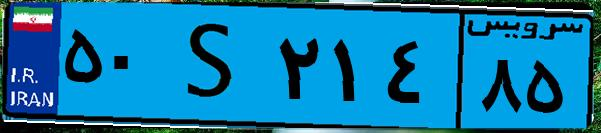0: (110, 28, 158, 98)
1: (330, 28, 385, 110)
2: (270, 28, 330, 110)
4: (385, 28, 445, 110)
5: (57, 26, 110, 100), (525, 38, 570, 115)
8: (475, 38, 525, 113)
S: (158, 12, 270, 120)
